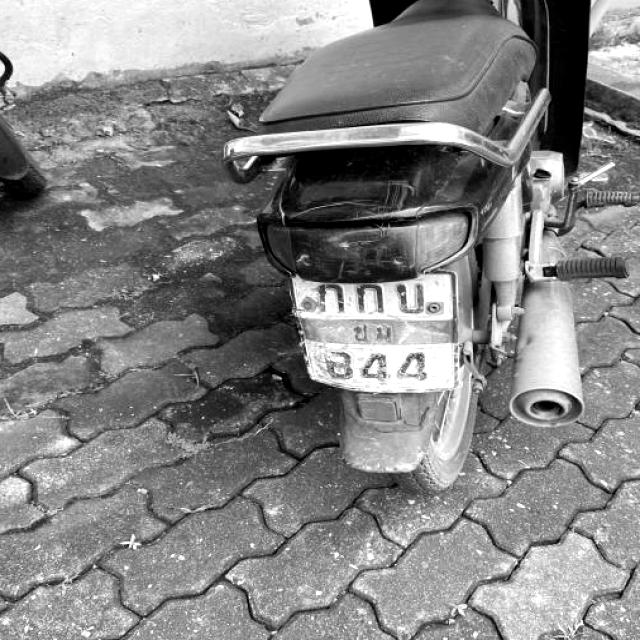letters: (320, 348, 358, 385), (401, 349, 438, 386), (310, 280, 344, 318), (392, 281, 434, 311), (360, 349, 389, 385), (356, 284, 381, 318)
license-plate: (298, 273, 459, 393)
province: (346, 320, 404, 346)
